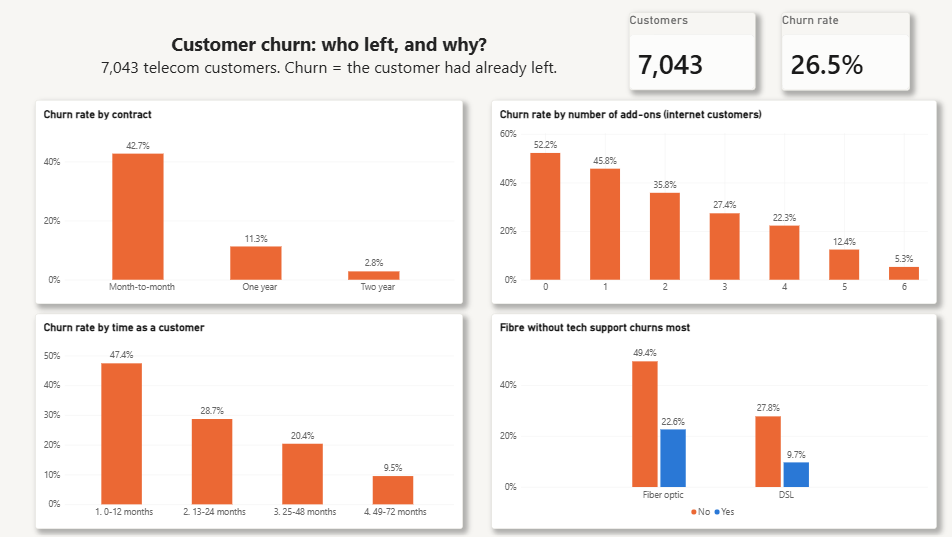

What the dashboard file says about the page in this screenshot:
{"tool":"powerbi","page":{"name":"1. Who churns?","canvas":[1920,1080],"ordinal":0},"visuals":[{"type":"textbox","box":[10,25,1300,155],"z":0},{"type":"cardVisual","title":"Customers","fields":{"Data":["Customers.Total Customers"]},"box":[1260,25,252.7,155.5],"z":1000},{"type":"cardVisual","title":"Churn rate","fields":{"Data":["Customers.Churn Rate"]},"box":[1565,25,257,156],"z":2000},{"type":"clusteredColumnChart","title":"Churn rate by contract","fields":{"Y":["Customers.Churn Rate"],"Category":["Customers.Contract"]},"box":[73.4,200.9,855.4,408.3],"z":3000},{"type":"clusteredColumnChart","title":"Churn rate by time as a customer","fields":{"Category":["Customers.tenure_bucket"],"Y":["Customers.Churn Rate"]},"box":[72.5,627.5,855,430],"z":4000},{"type":"clusteredColumnChart","title":"Churn rate by number of add-ons (internet customers)","fields":{"Category":["Customers.addon_count"],"Y":["Customers.Churn Rate"]},"box":[985.1,200.9,890,408.3],"z":5000},{"type":"clusteredColumnChart","title":"Fibre without tech support churns most","fields":{"Category":["Customers.InternetService"],"Y":["Customers.Churn Rate"],"Series":["Customers.TechSupport"]},"box":[985,627.5,890,430],"z":6000}]}

Visuals, with their boxes in screenshot pixels (x1, y1, x2, y2), scaled from the page's 1920x1080 canvas onto the 952x537 screenshot:
textbox: select_region(5, 12, 650, 90)
"Customers" cardVisual: select_region(625, 12, 750, 90)
"Churn rate" cardVisual: select_region(776, 12, 903, 90)
"Churn rate by contract" clusteredColumnChart: select_region(36, 100, 461, 303)
"Churn rate by time as a customer" clusteredColumnChart: select_region(36, 312, 460, 526)
"Churn rate by number of add-ons (internet customers)" clusteredColumnChart: select_region(488, 100, 930, 303)
"Fibre without tech support churns most" clusteredColumnChart: select_region(488, 312, 930, 526)
